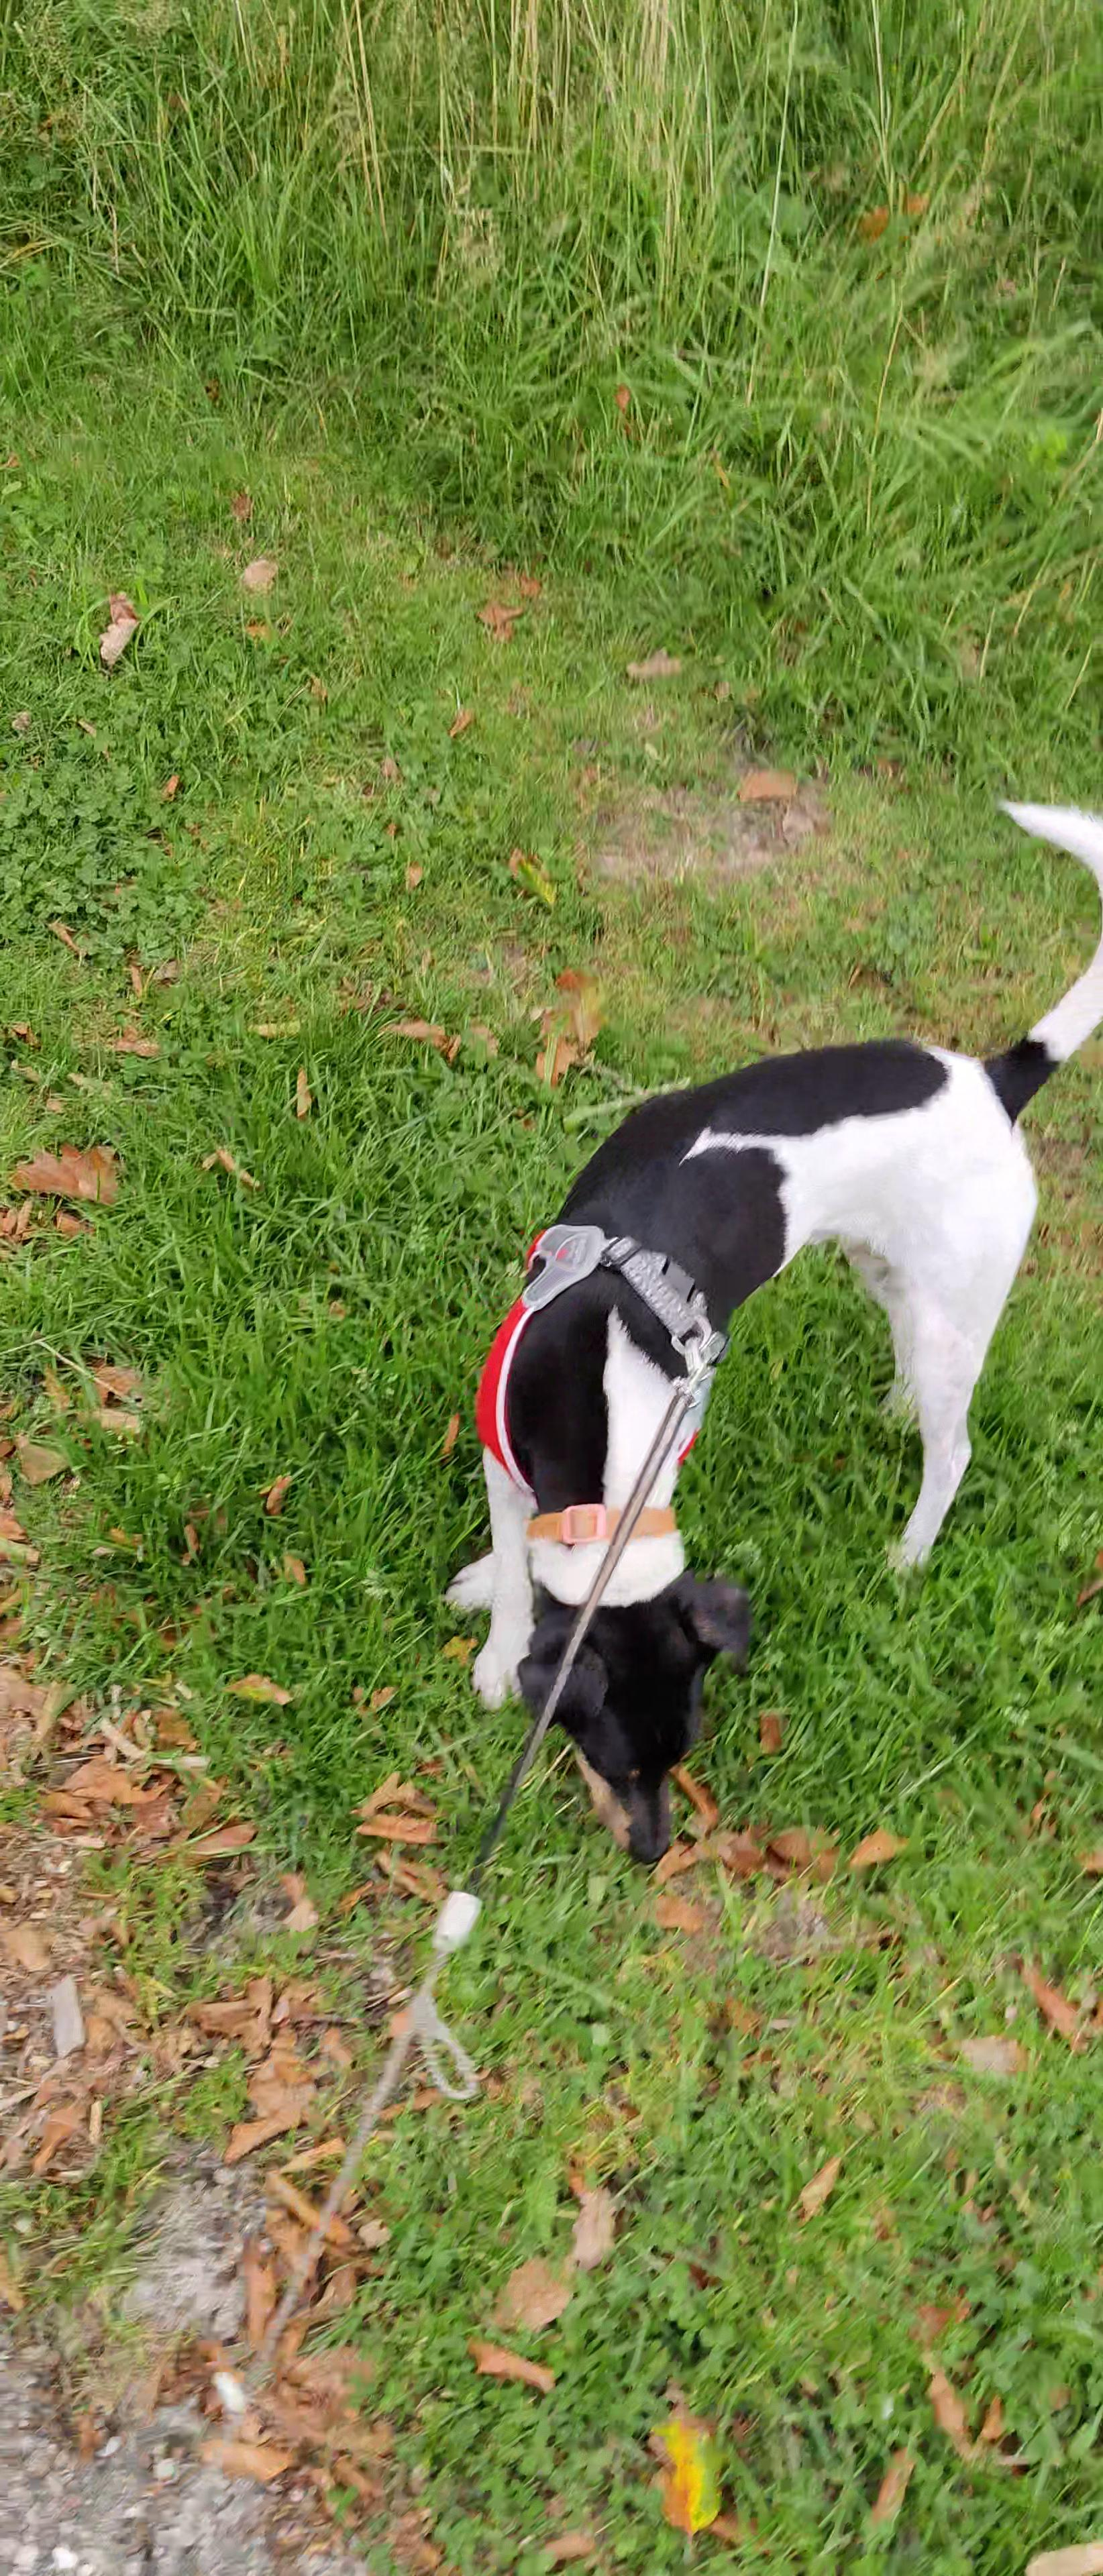Dog: (403, 749, 1103, 1899)
